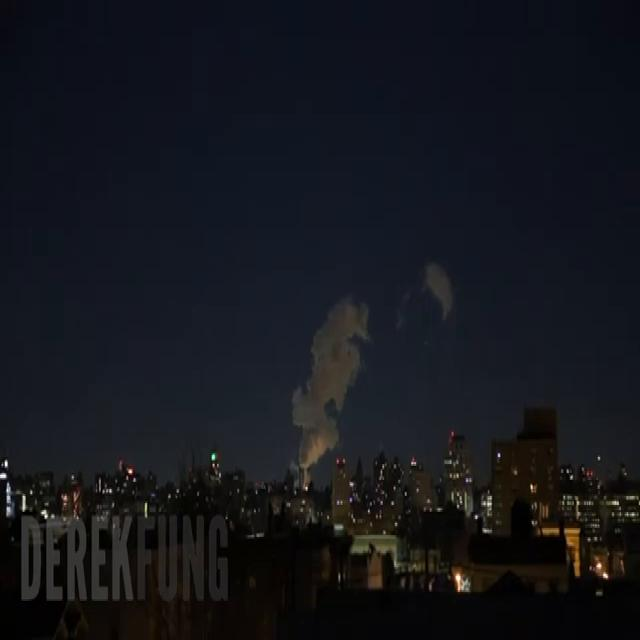smoke: (288, 295, 370, 489), (292, 295, 369, 480)
